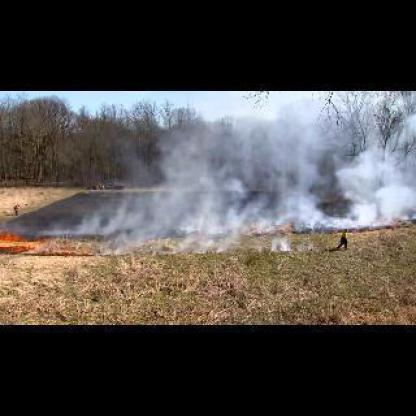fire: (0, 228, 47, 255)
